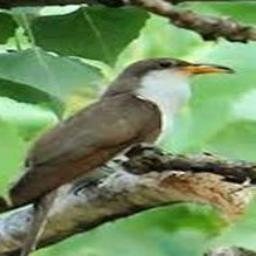Cuckoo: (0, 57, 237, 256)
